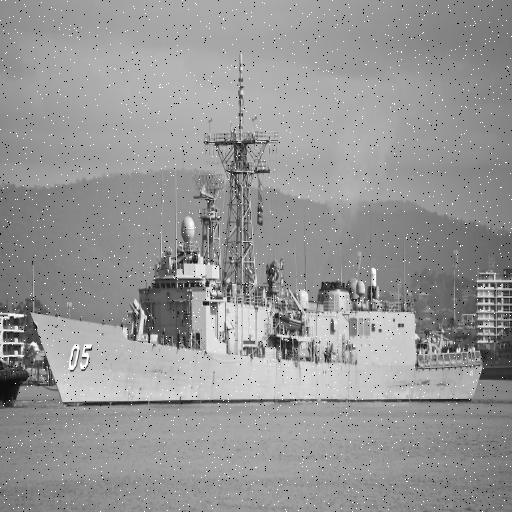Fragata: (26, 59, 490, 418)
